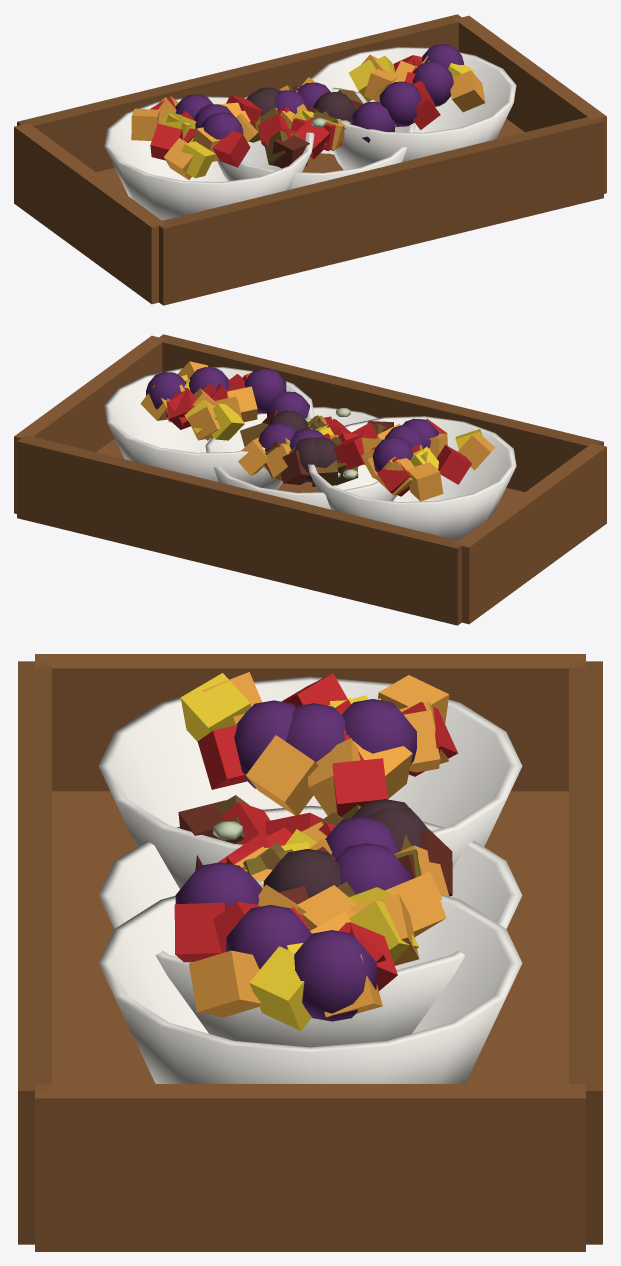
The model's file is Dessert_FruitSalad.fbx.
3 views of the same model, one above another, from view 1: azimuth 30°, elevation 25°; view 2: azimuth 150°, elevation 25°; view 3: azimuth 270°, elevation 25° (orthographic). The views are drawn at different scales.
Parts seen in each view (by area): view 1: Dessert_FruitSalad__Stack, Dessert_FruitSalad, Dessert_FruitSalad__Rotten; view 2: Dessert_FruitSalad__Stack, Dessert_FruitSalad, Dessert_FruitSalad__Rotten; view 3: Dessert_FruitSalad__Stack, Dessert_FruitSalad, Dessert_FruitSalad__Rotten.
Boxes of the visible parts, bbox=[...] form: Dessert_FruitSalad__Stack: bbox=[14, 14, 606, 305]; Dessert_FruitSalad: bbox=[217, 77, 415, 189]; Dessert_FruitSalad__Rotten: bbox=[246, 85, 363, 168]; Dessert_FruitSalad__Stack: bbox=[14, 334, 606, 625]; Dessert_FruitSalad: bbox=[205, 391, 396, 509]; Dessert_FruitSalad__Rotten: bbox=[240, 408, 393, 486]; Dessert_FruitSalad__Stack: bbox=[18, 654, 602, 1251]; Dessert_FruitSalad: bbox=[98, 802, 522, 1047]; Dessert_FruitSalad__Rotten: bbox=[178, 795, 452, 904].
Size of the model in its own units: 0.248 by 0.06 by 0.138.
